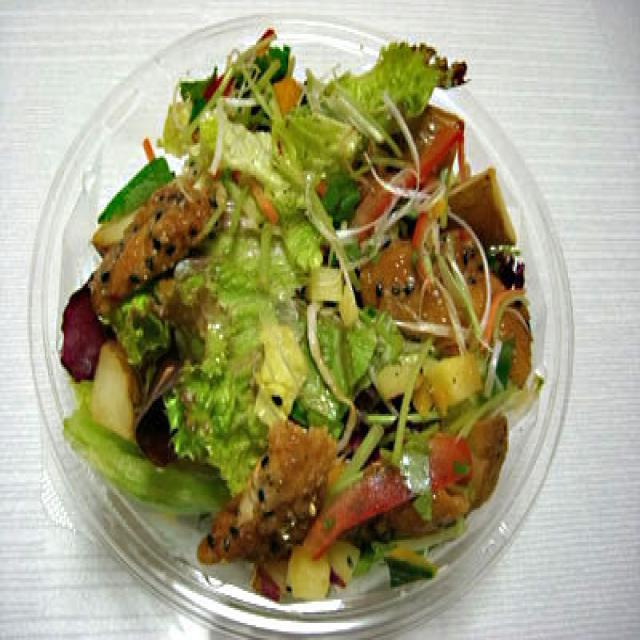Green Salad: (95, 56, 528, 561)
